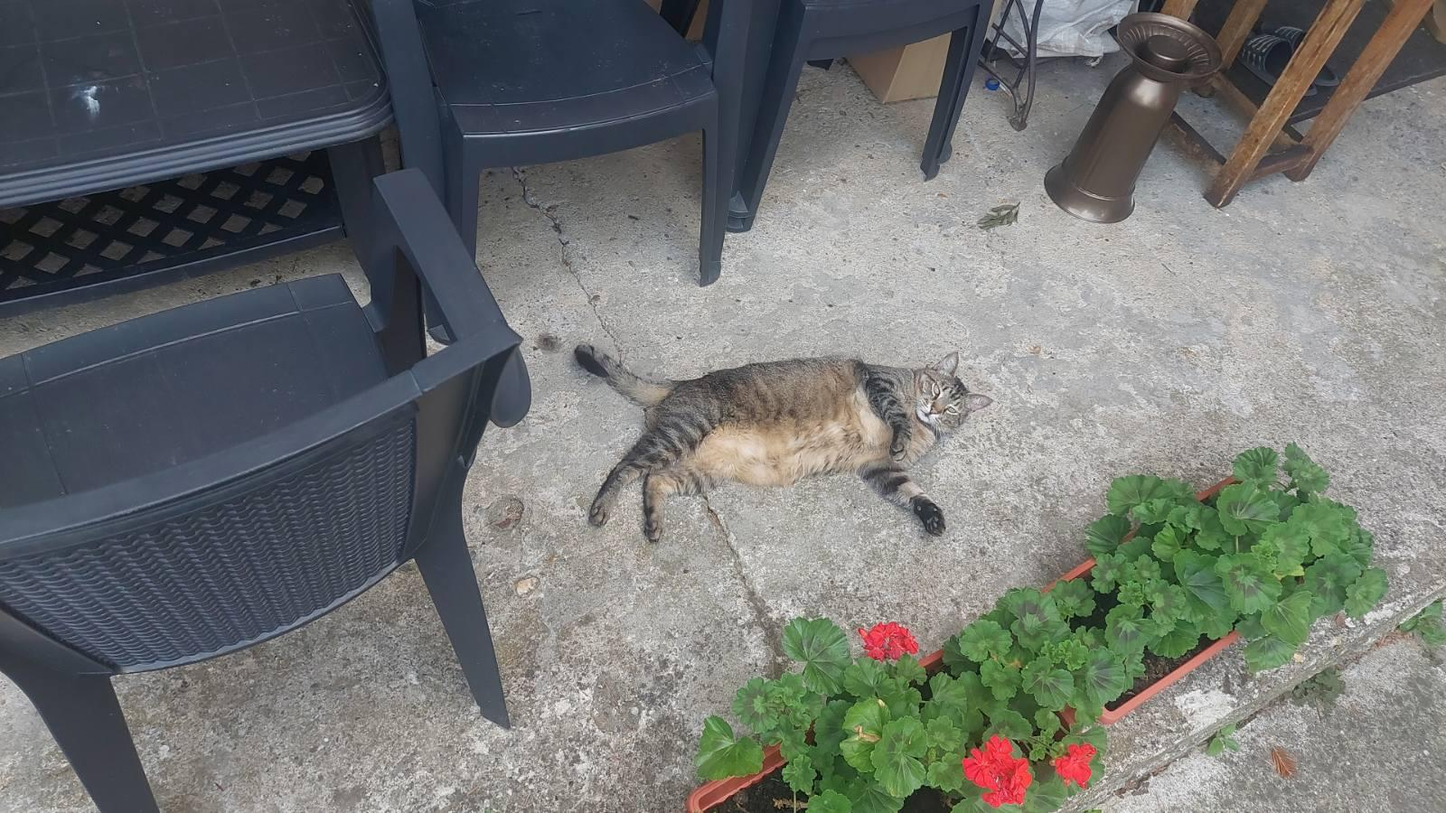macka: (573, 341, 995, 542)
